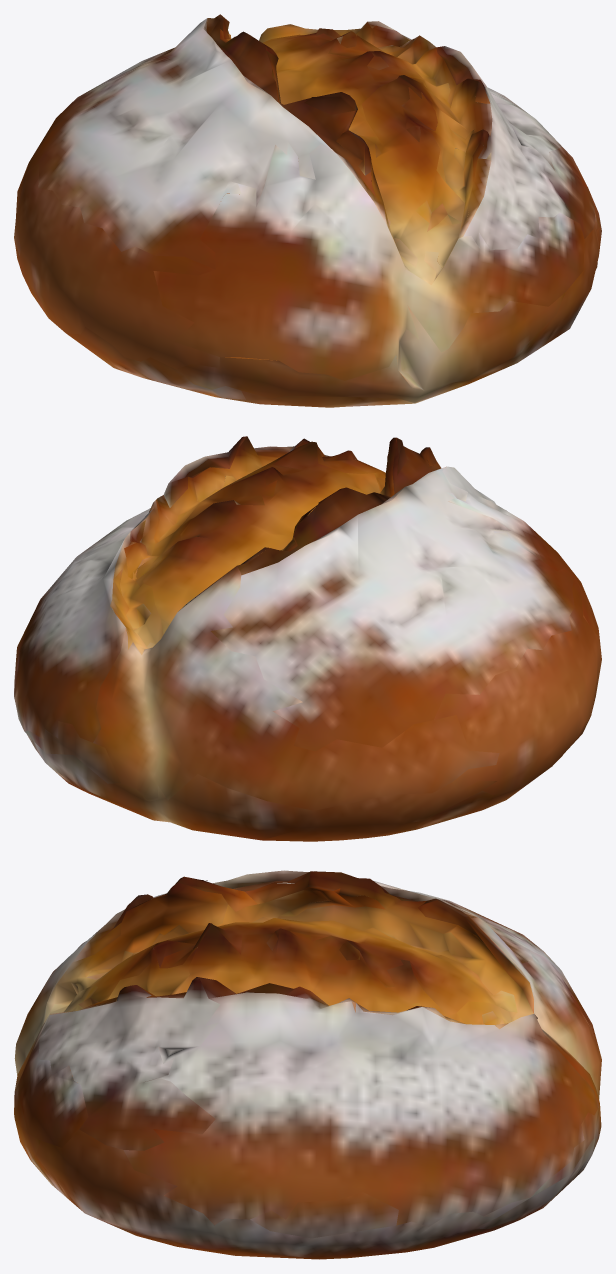
The model's file is pan.movil.glb.
3 renders of one model, top to bottom at view 1: azimuth 30°, elevation 25°; view 2: azimuth 150°, elevation 25°; view 3: azimuth 270°, elevation 25°, orthographic.
Visible parts, largest first — view 1: geometry_0; view 2: geometry_0; view 3: geometry_0.
Boxes of the visible parts, box(x1,y1,x2,y2) form: geometry_0: box(14, 14, 601, 407); geometry_0: box(14, 436, 601, 841); geometry_0: box(14, 870, 601, 1259).
Size of the model in its own units: 0.3194 by 0.1595 by 0.3194.
1 material, 1 textured.
